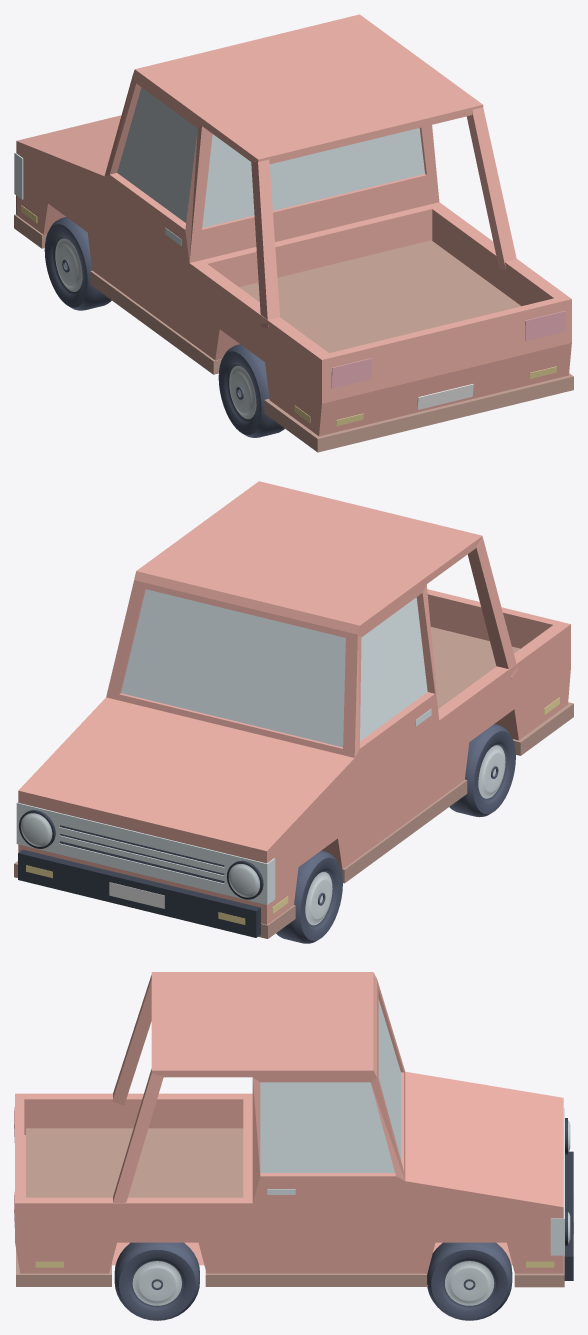
File: car.fbx
The picture shows the model from 3 angles, top to bottom: view 1: azimuth 30°, elevation 25°; view 2: azimuth 150°, elevation 25°; view 3: azimuth 270°, elevation 25°; orthographic projection. The views are drawn at different scales.
Parts seen in each view (by area): view 1: Car1; view 2: Car1; view 3: Car1.
Boxes of the visible parts, <box> form: Car1: <box>14,14,573,452</box>; Car1: <box>14,481,573,943</box>; Car1: <box>14,972,573,1320</box>.
Size of the model in its own units: 155 by 158 by 324.
